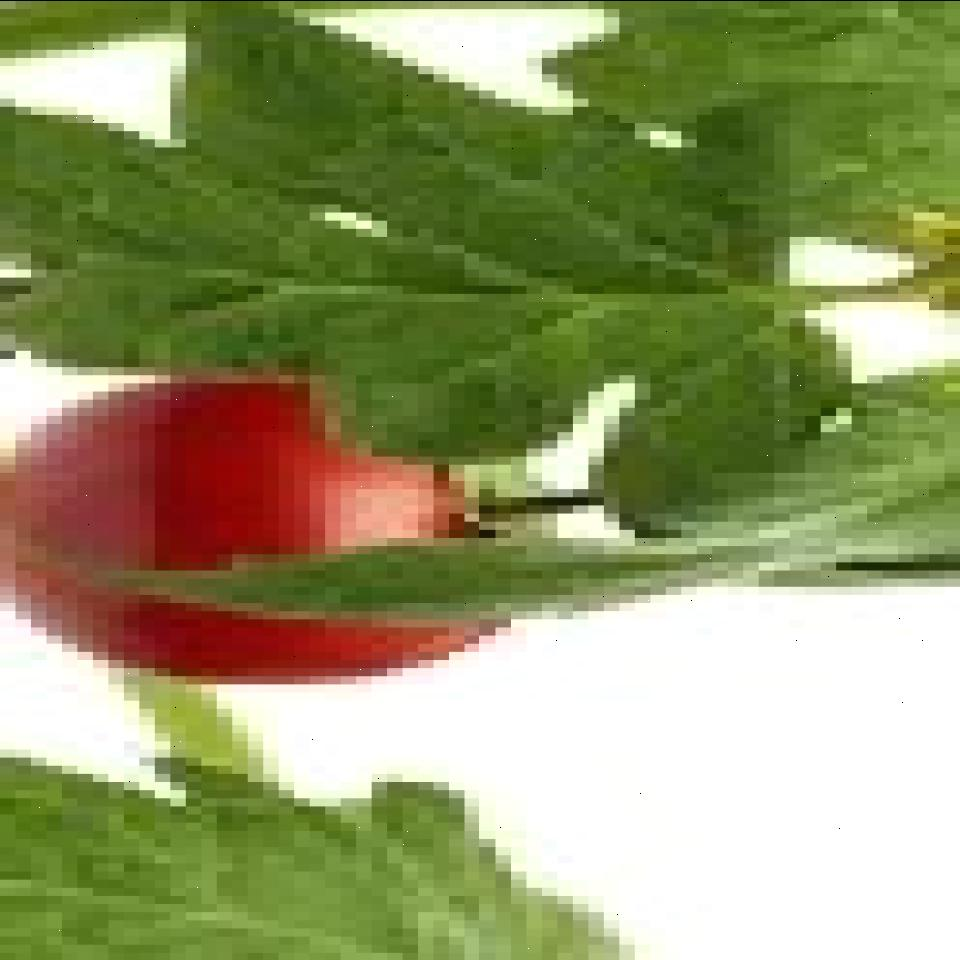Healthy: (0, 382, 573, 691)
